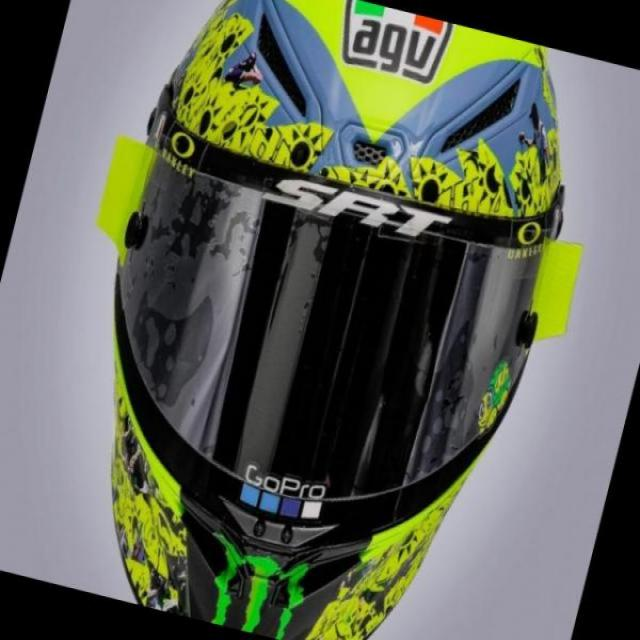Helmet: (105, 0, 584, 640)
